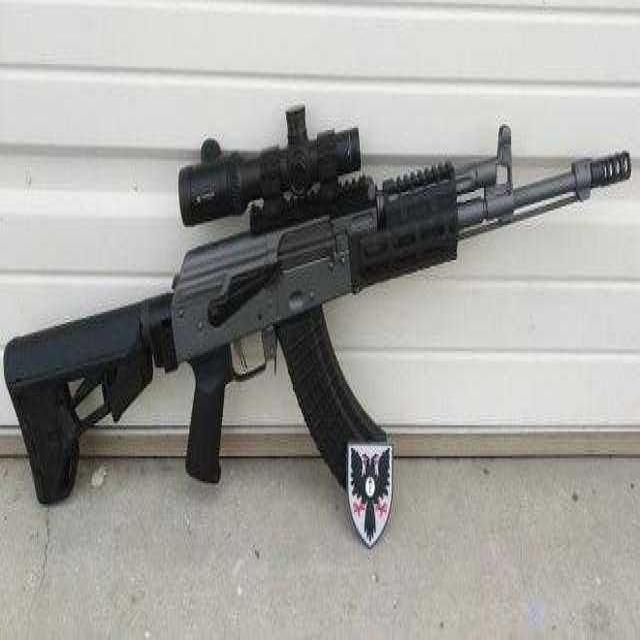heavyweapon: (1, 102, 639, 567)
